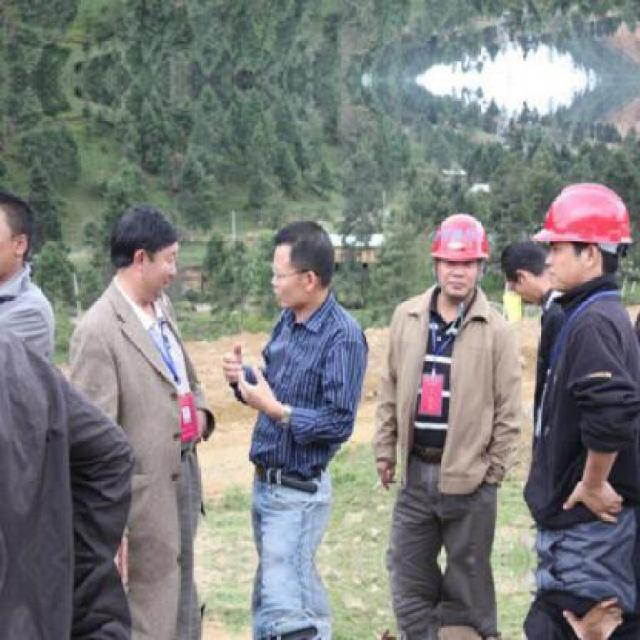helmet: (531, 183, 637, 246), (428, 212, 490, 263)
